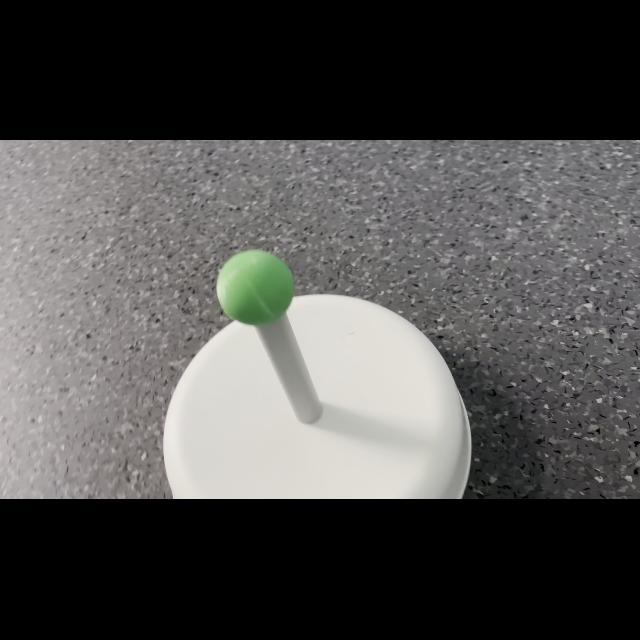objects: (212, 245, 296, 325)
